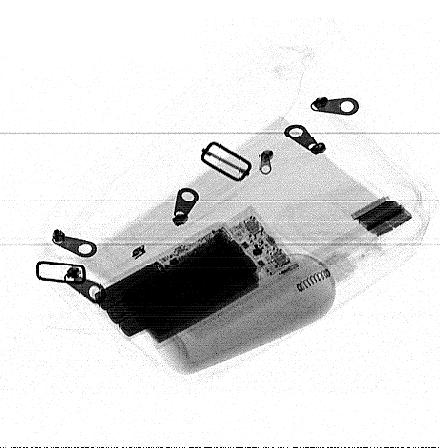Powerbank: (111, 206, 300, 352), (91, 222, 264, 343)
